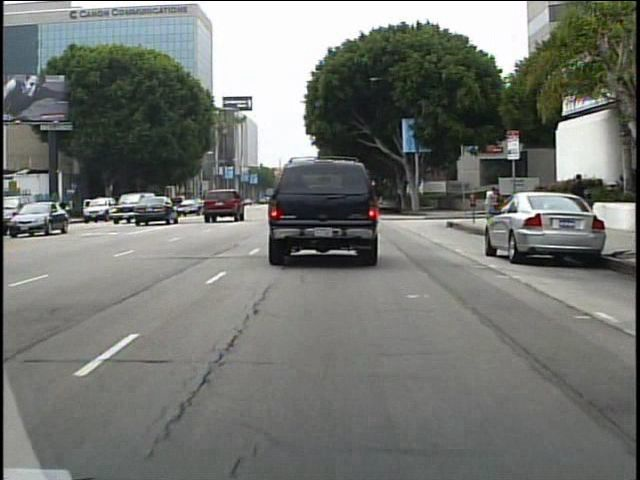person: (567, 170, 591, 233), (483, 185, 496, 217)
